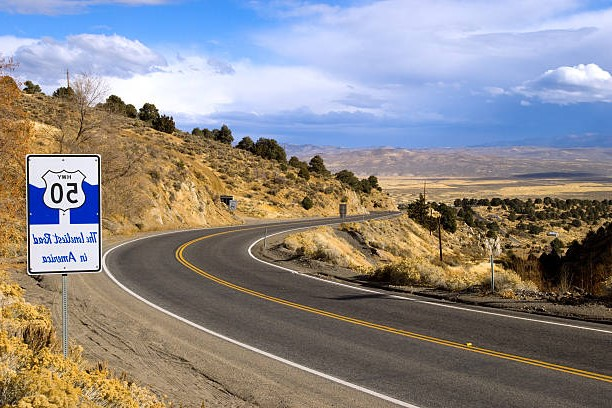rightTrun: (106, 216, 275, 335)
